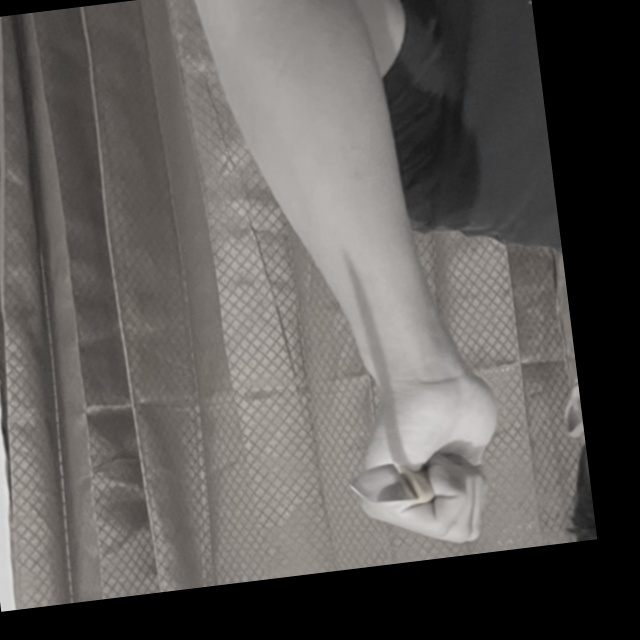Sharp-Object: (345, 456, 438, 515)
